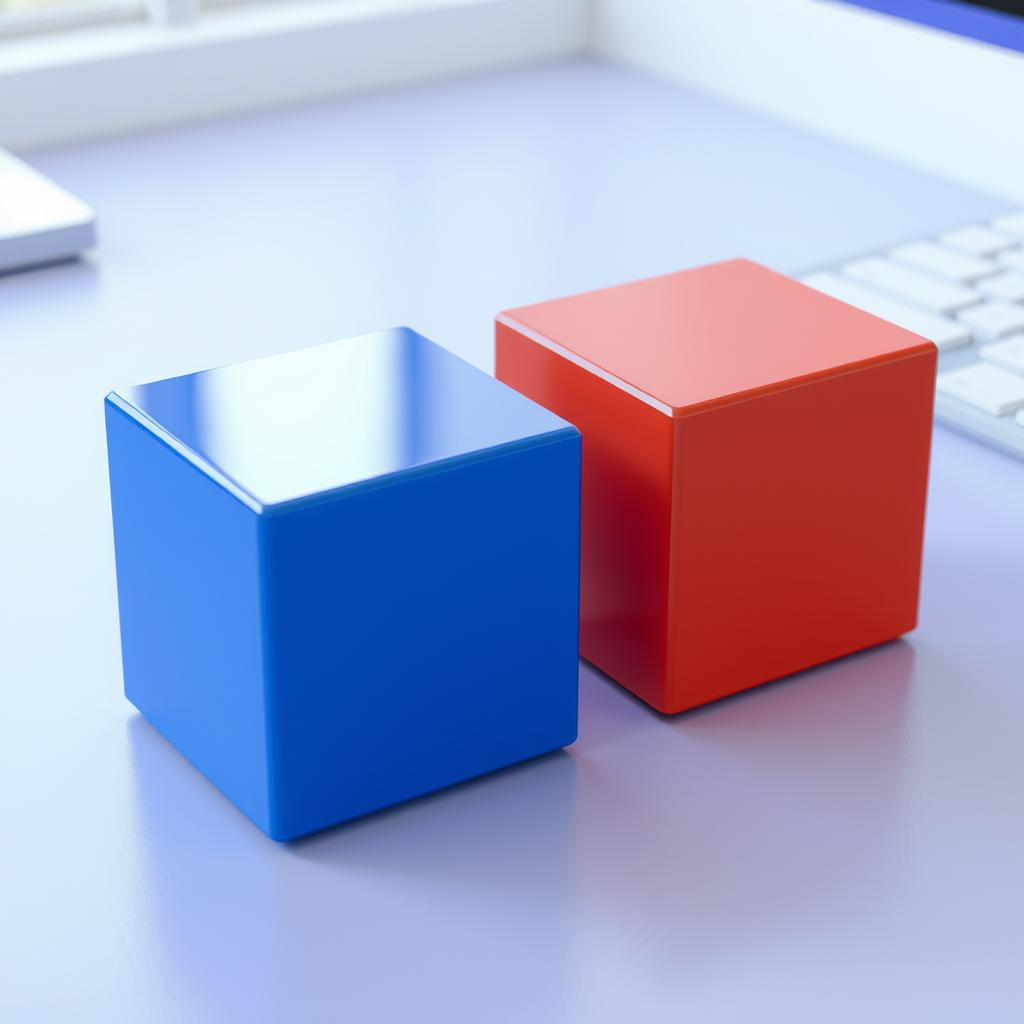cube: (102, 323, 582, 843), (492, 255, 938, 716)
